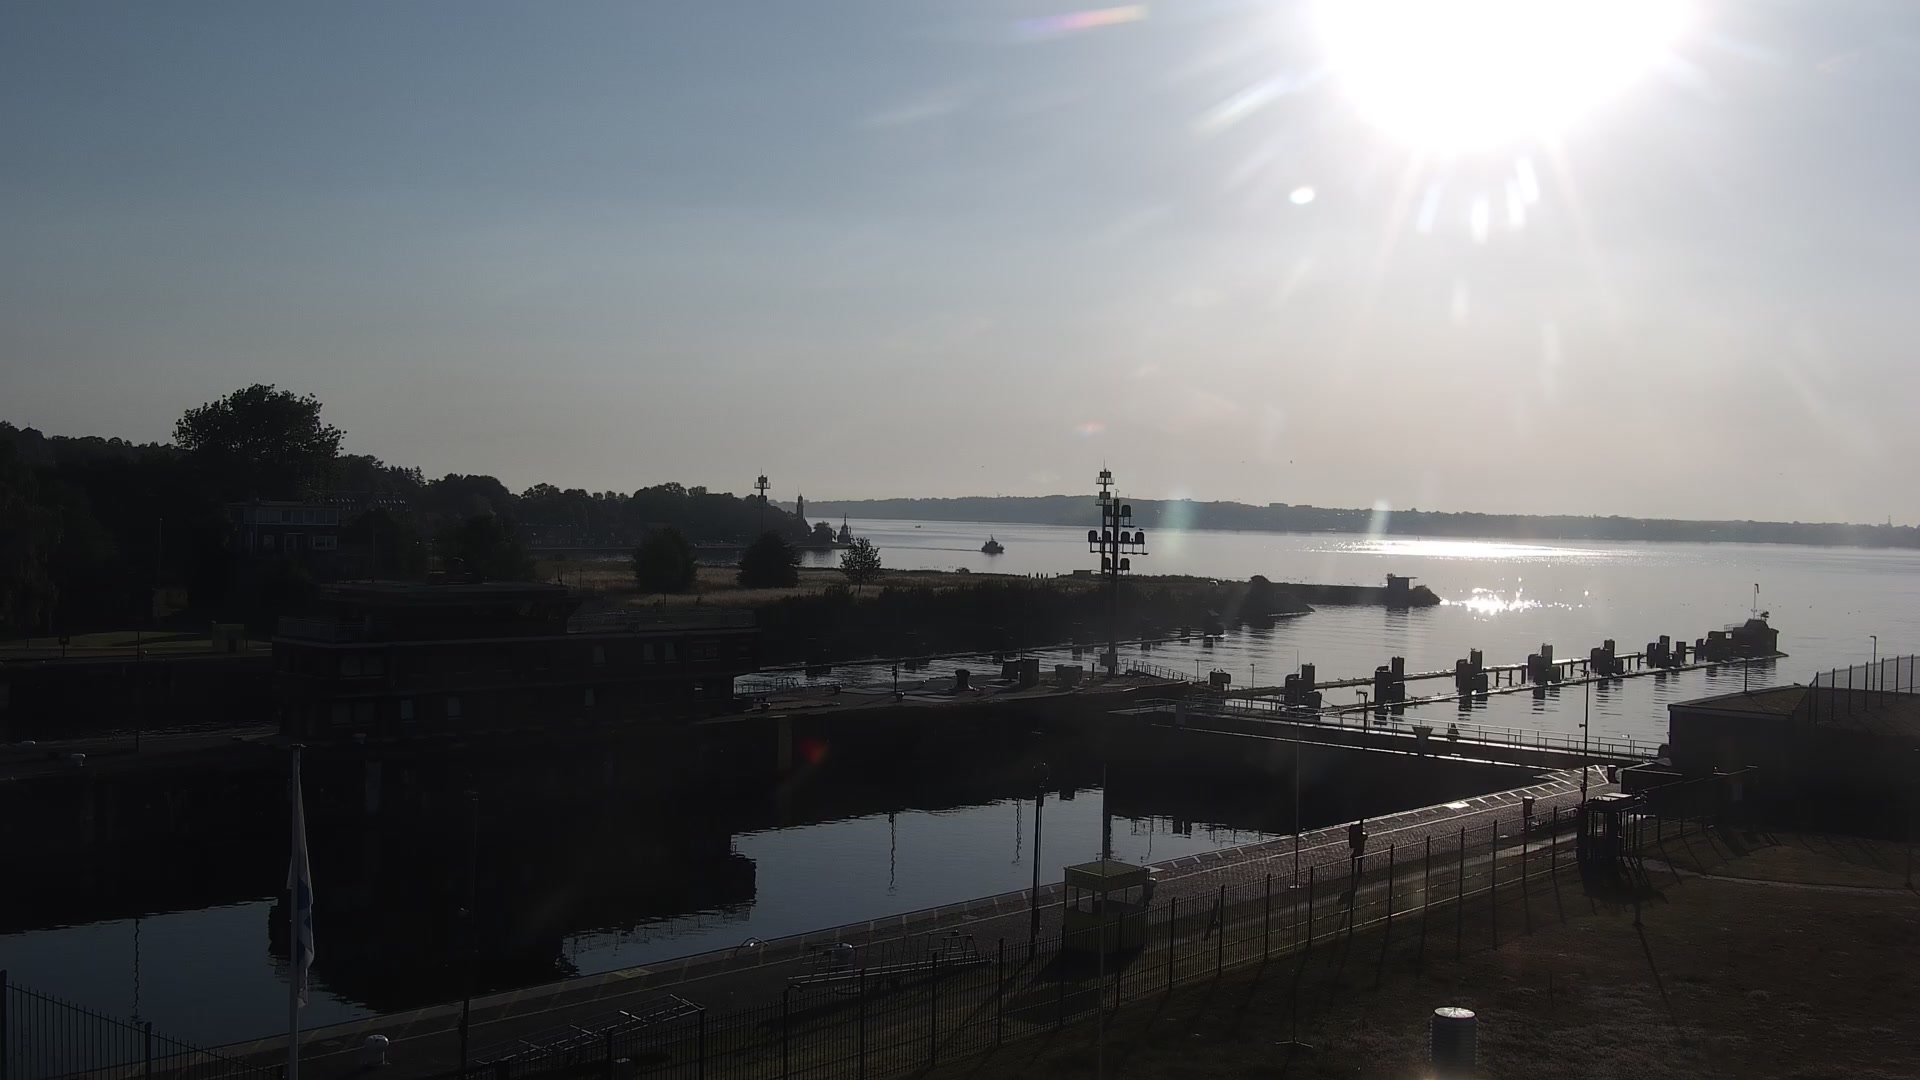human: (1445, 722, 1460, 743)
sea: (980, 534, 1005, 554)
